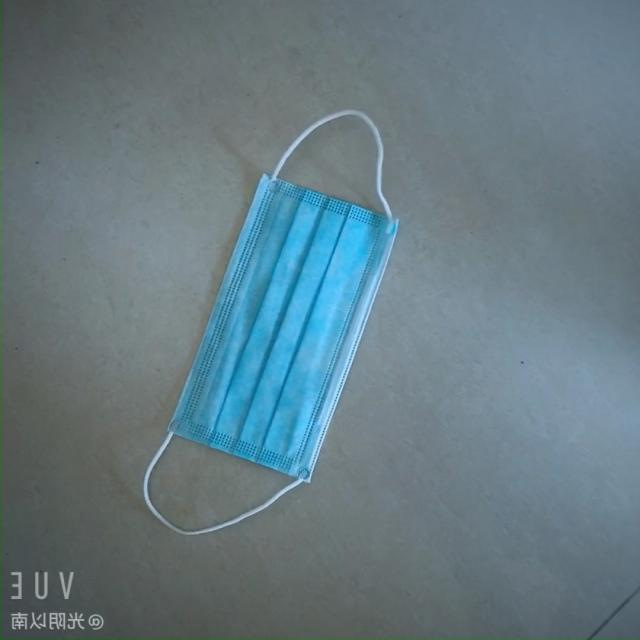face mask: (168, 154, 402, 487)
